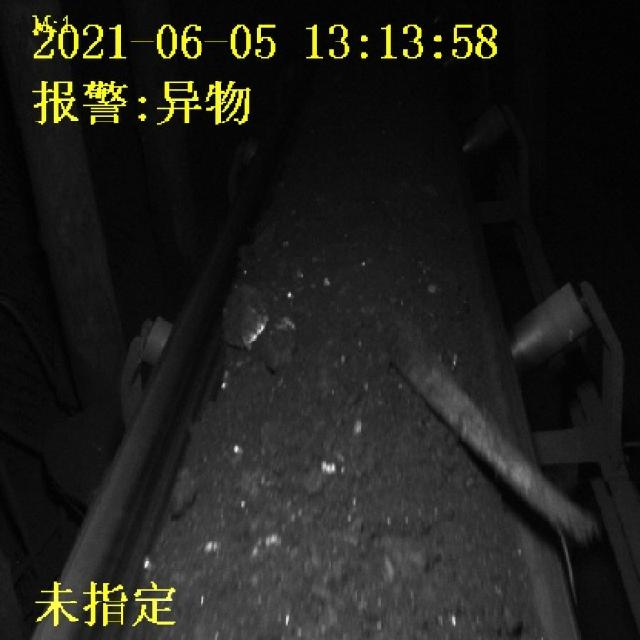bolt: (392, 336, 592, 544)
large_sized_coal: (226, 284, 297, 354)
